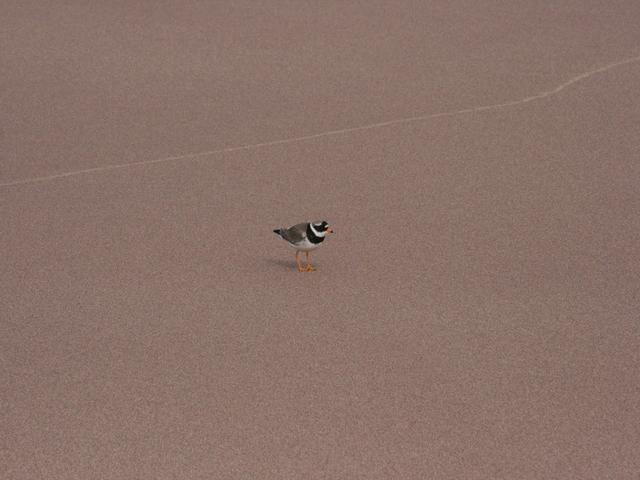bird: (247, 204, 354, 282)
